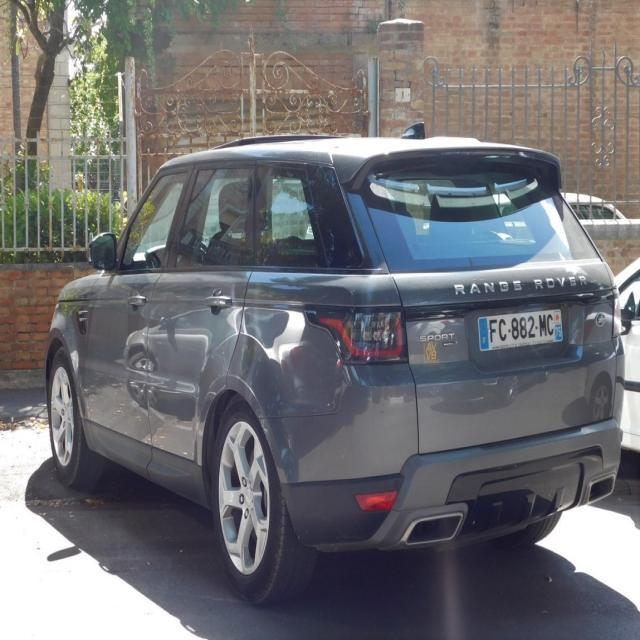EU: (477, 307, 572, 349)
France: (476, 316, 494, 352)
